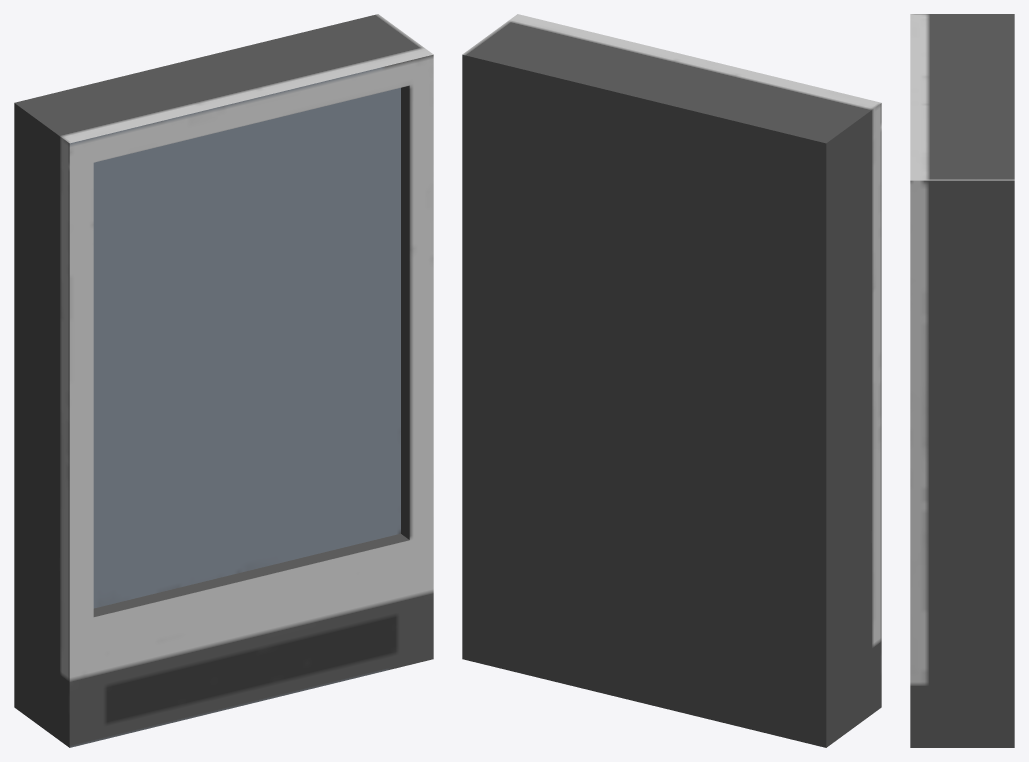
The model's file is Freezer.fbx.
3 views of the same model, side by side, from view 1: azimuth 30°, elevation 25°; view 2: azimuth 150°, elevation 25°; view 3: azimuth 270°, elevation 25° (orthographic). The views are drawn at different scales.
Parts seen in each view (by area): view 1: Freezer; view 2: Freezer; view 3: Freezer.
Boxes of the visible parts, x1,y1,x2,y2 form: Freezer: [14, 14, 433, 747]; Freezer: [462, 14, 881, 747]; Freezer: [910, 14, 1014, 747].
Size of the model in its own units: 25.8 by 40.94 by 6.81.
